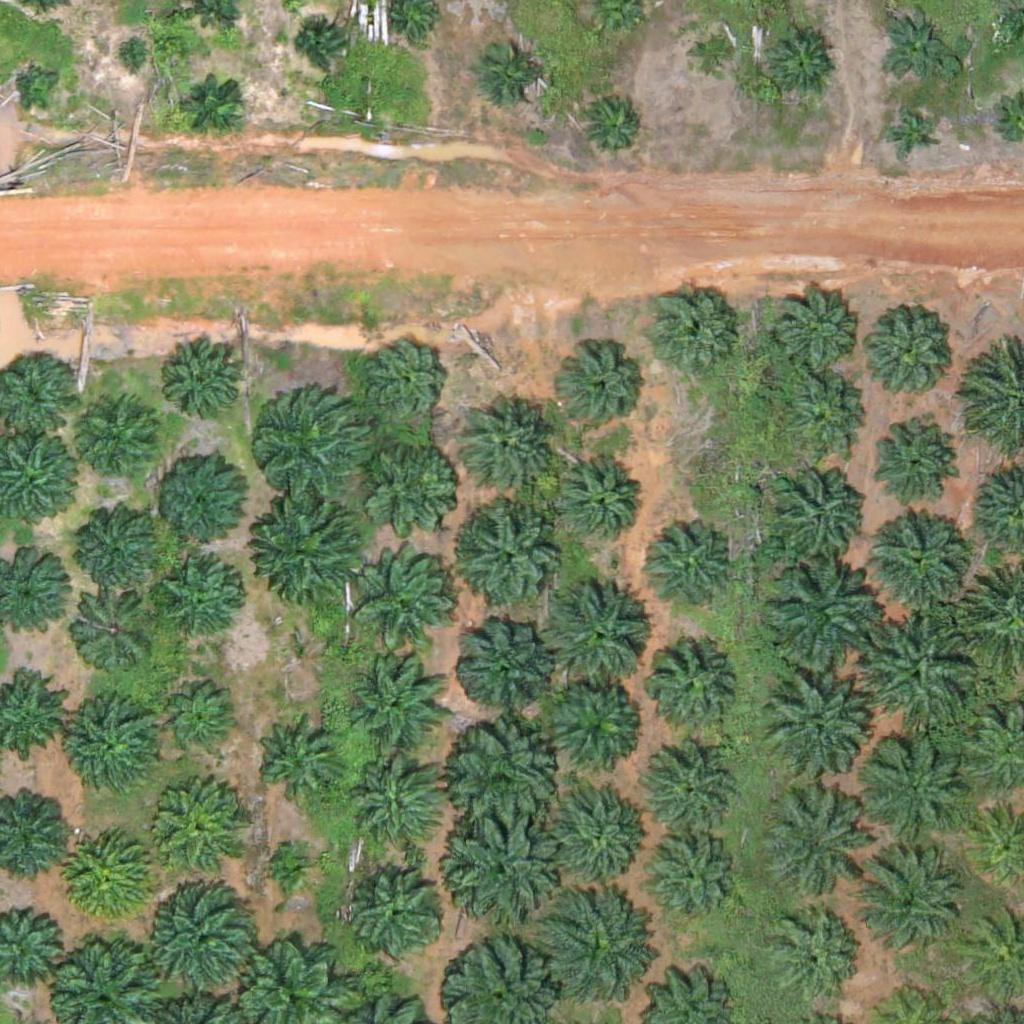Kelapa_Sawit: (141, 877, 266, 1003), (250, 383, 375, 509), (544, 888, 657, 1001), (442, 815, 555, 928), (857, 728, 969, 842), (854, 844, 966, 958), (763, 560, 875, 674), (862, 619, 974, 732), (538, 576, 650, 689), (455, 504, 567, 617), (448, 723, 560, 836), (858, 300, 958, 401), (758, 792, 858, 893), (634, 520, 734, 621), (639, 741, 739, 842), (640, 830, 740, 931), (549, 782, 649, 883), (541, 674, 641, 775), (457, 396, 557, 497), (349, 863, 449, 964), (349, 759, 449, 860), (344, 653, 444, 754), (359, 550, 459, 651), (262, 501, 362, 602), (871, 510, 971, 610), (762, 679, 862, 779), (767, 463, 867, 563), (643, 635, 743, 735), (453, 616, 553, 716), (66, 701, 166, 801), (363, 428, 463, 528), (865, 416, 953, 504), (767, 910, 855, 998), (647, 285, 735, 373), (550, 456, 638, 544), (67, 832, 155, 920), (153, 790, 241, 878), (155, 456, 242, 545), (74, 502, 161, 590), (785, 371, 872, 459), (773, 288, 860, 376), (560, 345, 647, 433), (69, 583, 156, 671), (77, 394, 164, 482), (163, 337, 250, 425), (160, 564, 247, 652), (364, 341, 451, 429), (254, 714, 341, 802), (474, 35, 549, 111), (165, 680, 240, 755), (763, 25, 838, 100), (879, 7, 954, 82), (185, 72, 248, 135), (584, 95, 647, 158), (886, 108, 936, 159), (17, 60, 67, 111), (294, 22, 344, 72), (267, 839, 317, 889), (688, 30, 738, 80), (112, 38, 150, 76)
